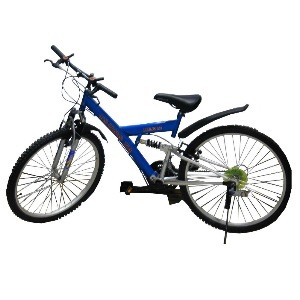bicycle: (4, 36, 297, 250)
